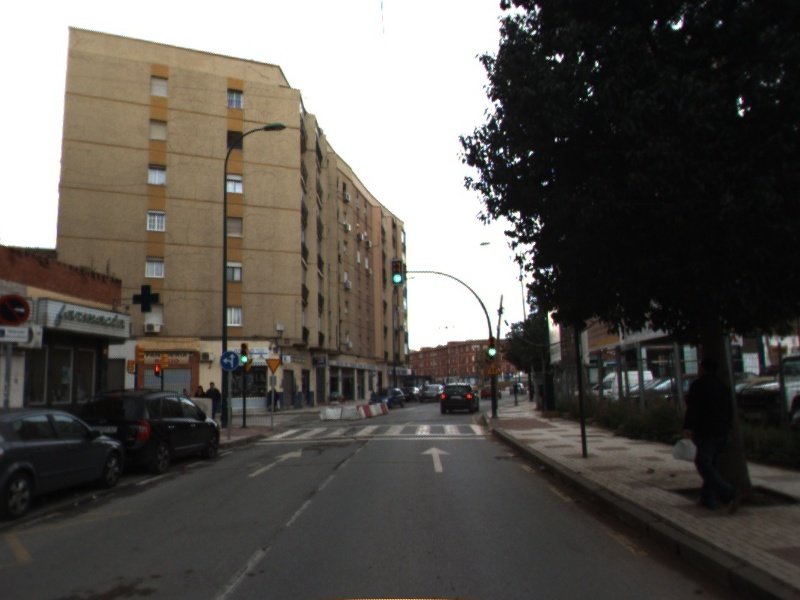STRAIGHT: (246, 445, 305, 479), (418, 444, 453, 474)
